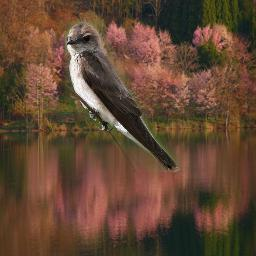Swallow: (65, 21, 180, 172)
